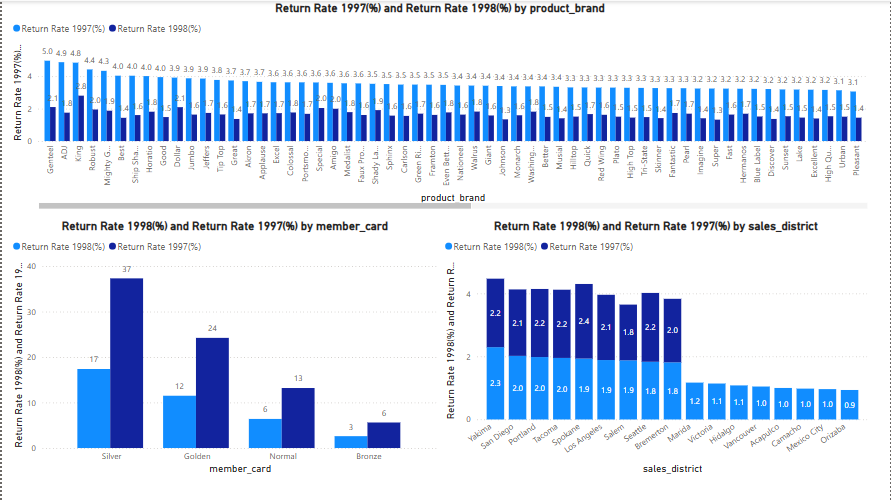

The dashboard page shown, as its layout file describes it:
{"tool":"powerbi","page":{"name":"Page 3","canvas":[1280,720],"ordinal":2},"visuals":[{"type":"clusteredColumnChart","fields":{"Y":["Customers.Return Rate 1997(%)","Customers.Return Rate 1998(%)"],"Category":["Products.product_brand"]},"box":[10.1,0,1241.4,304],"z":0},{"type":"clusteredColumnChart","fields":{"Category":["Customers.member_card"],"Y":["Customers.Return Rate 1998(%)","Customers.Return Rate 1997(%)"]},"box":[10.1,314.1,621.5,372.9],"z":1},{"type":"columnChart","fields":{"Y":["Customers.Return Rate 1998(%)","Customers.Return Rate 1997(%)"],"Category":["Regions.sales_district"]},"box":[632,314,619,373],"z":2}]}

Visuals, with their boxes in screenshot pixels (x1, y1, x2, y2), scaled from the page's 1280x720 canvas onto the 891x501 screenshot:
clusteredColumnChart - Customers.Return Rate 1997(%) x Customers.Return Rate 1998(%): (7,0,871,212)
clusteredColumnChart - Customers.member_card x Customers.Return Rate 1998(%): (7,219,440,478)
columnChart - Customers.Return Rate 1998(%) x Customers.Return Rate 1997(%): (440,218,871,478)
